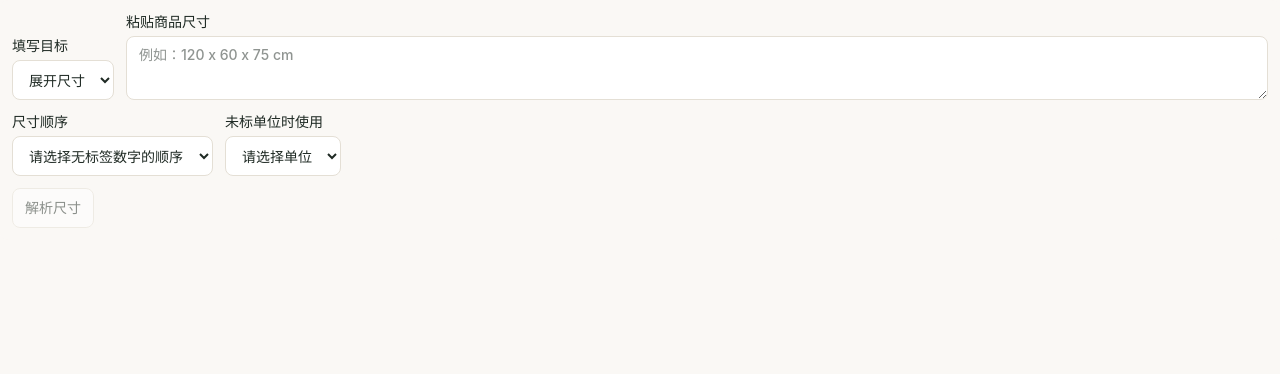
Test: ProductDimensionsAssist confirmation boundary › invalidates preview when pasted input changes
Select "长 × 宽 × 高（L×W×H）" in the dropdown labelled "尺寸顺序" at (112, 156), box [12,136,213,176]
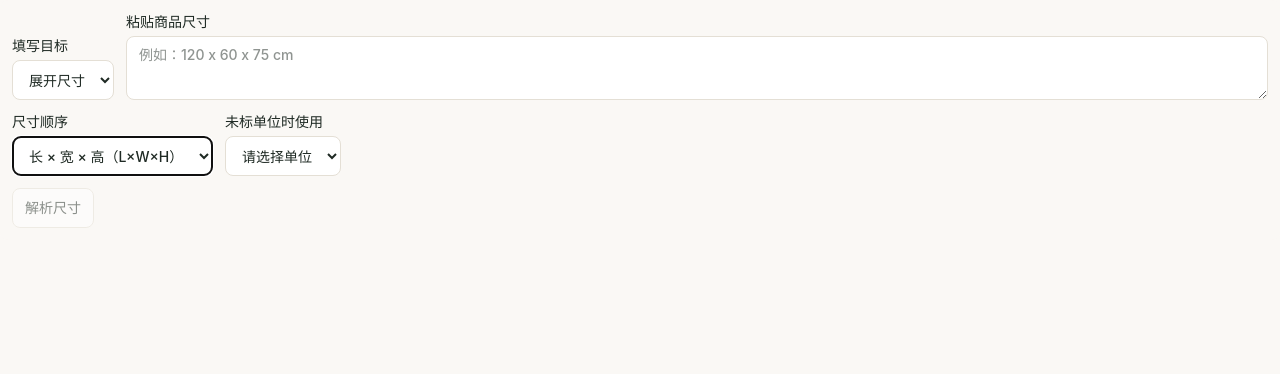
Type "120 x 60 x 75 cm; weight 5kg" into the text box labelled "粘贴商品尺寸" at (697, 68), box [126,36,1268,100]
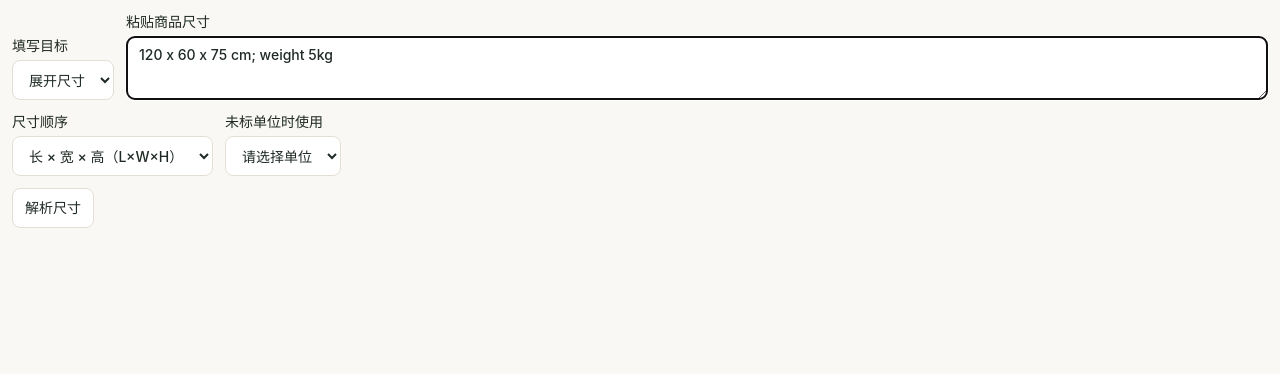
Click the button "解析尺寸" at (53, 208), box [12,188,94,228]
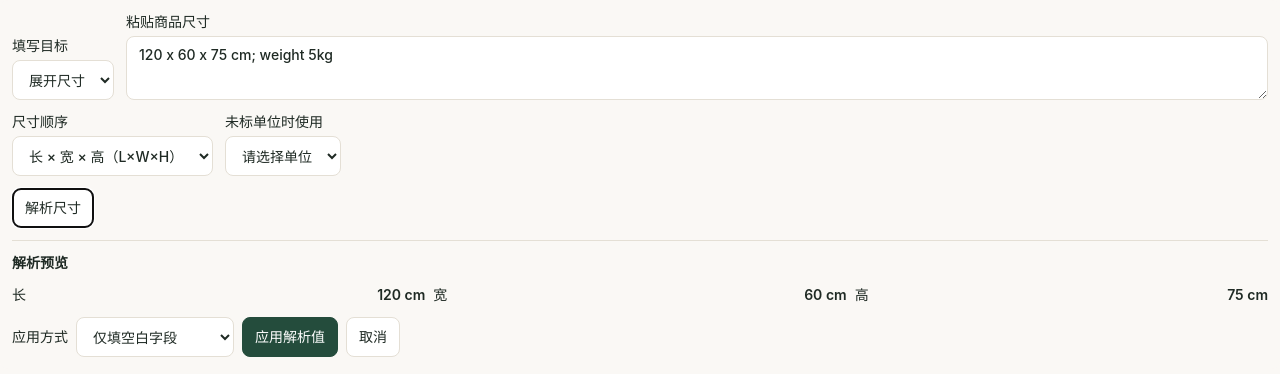
Clear the text box labelled "粘贴商品尺寸" at (697, 68), box [126,36,1268,100]
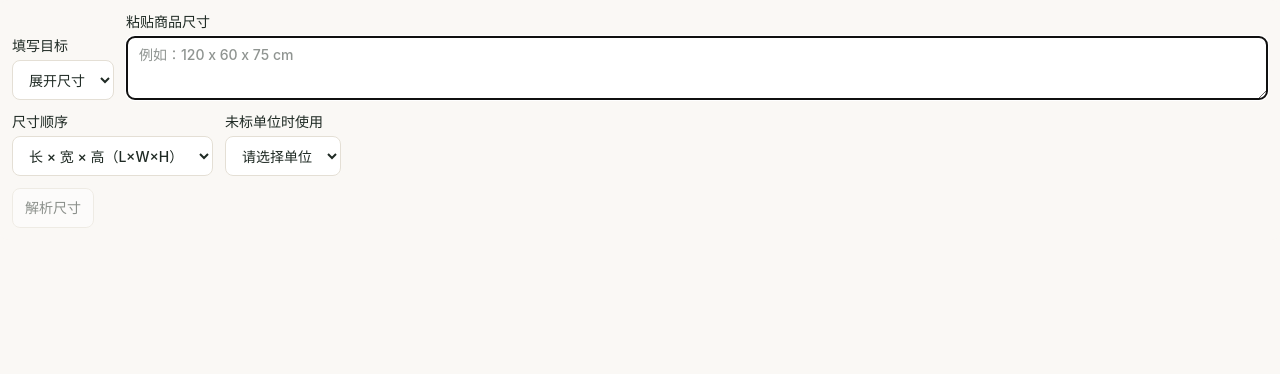
Expected: the button "应用解析值" is gone
